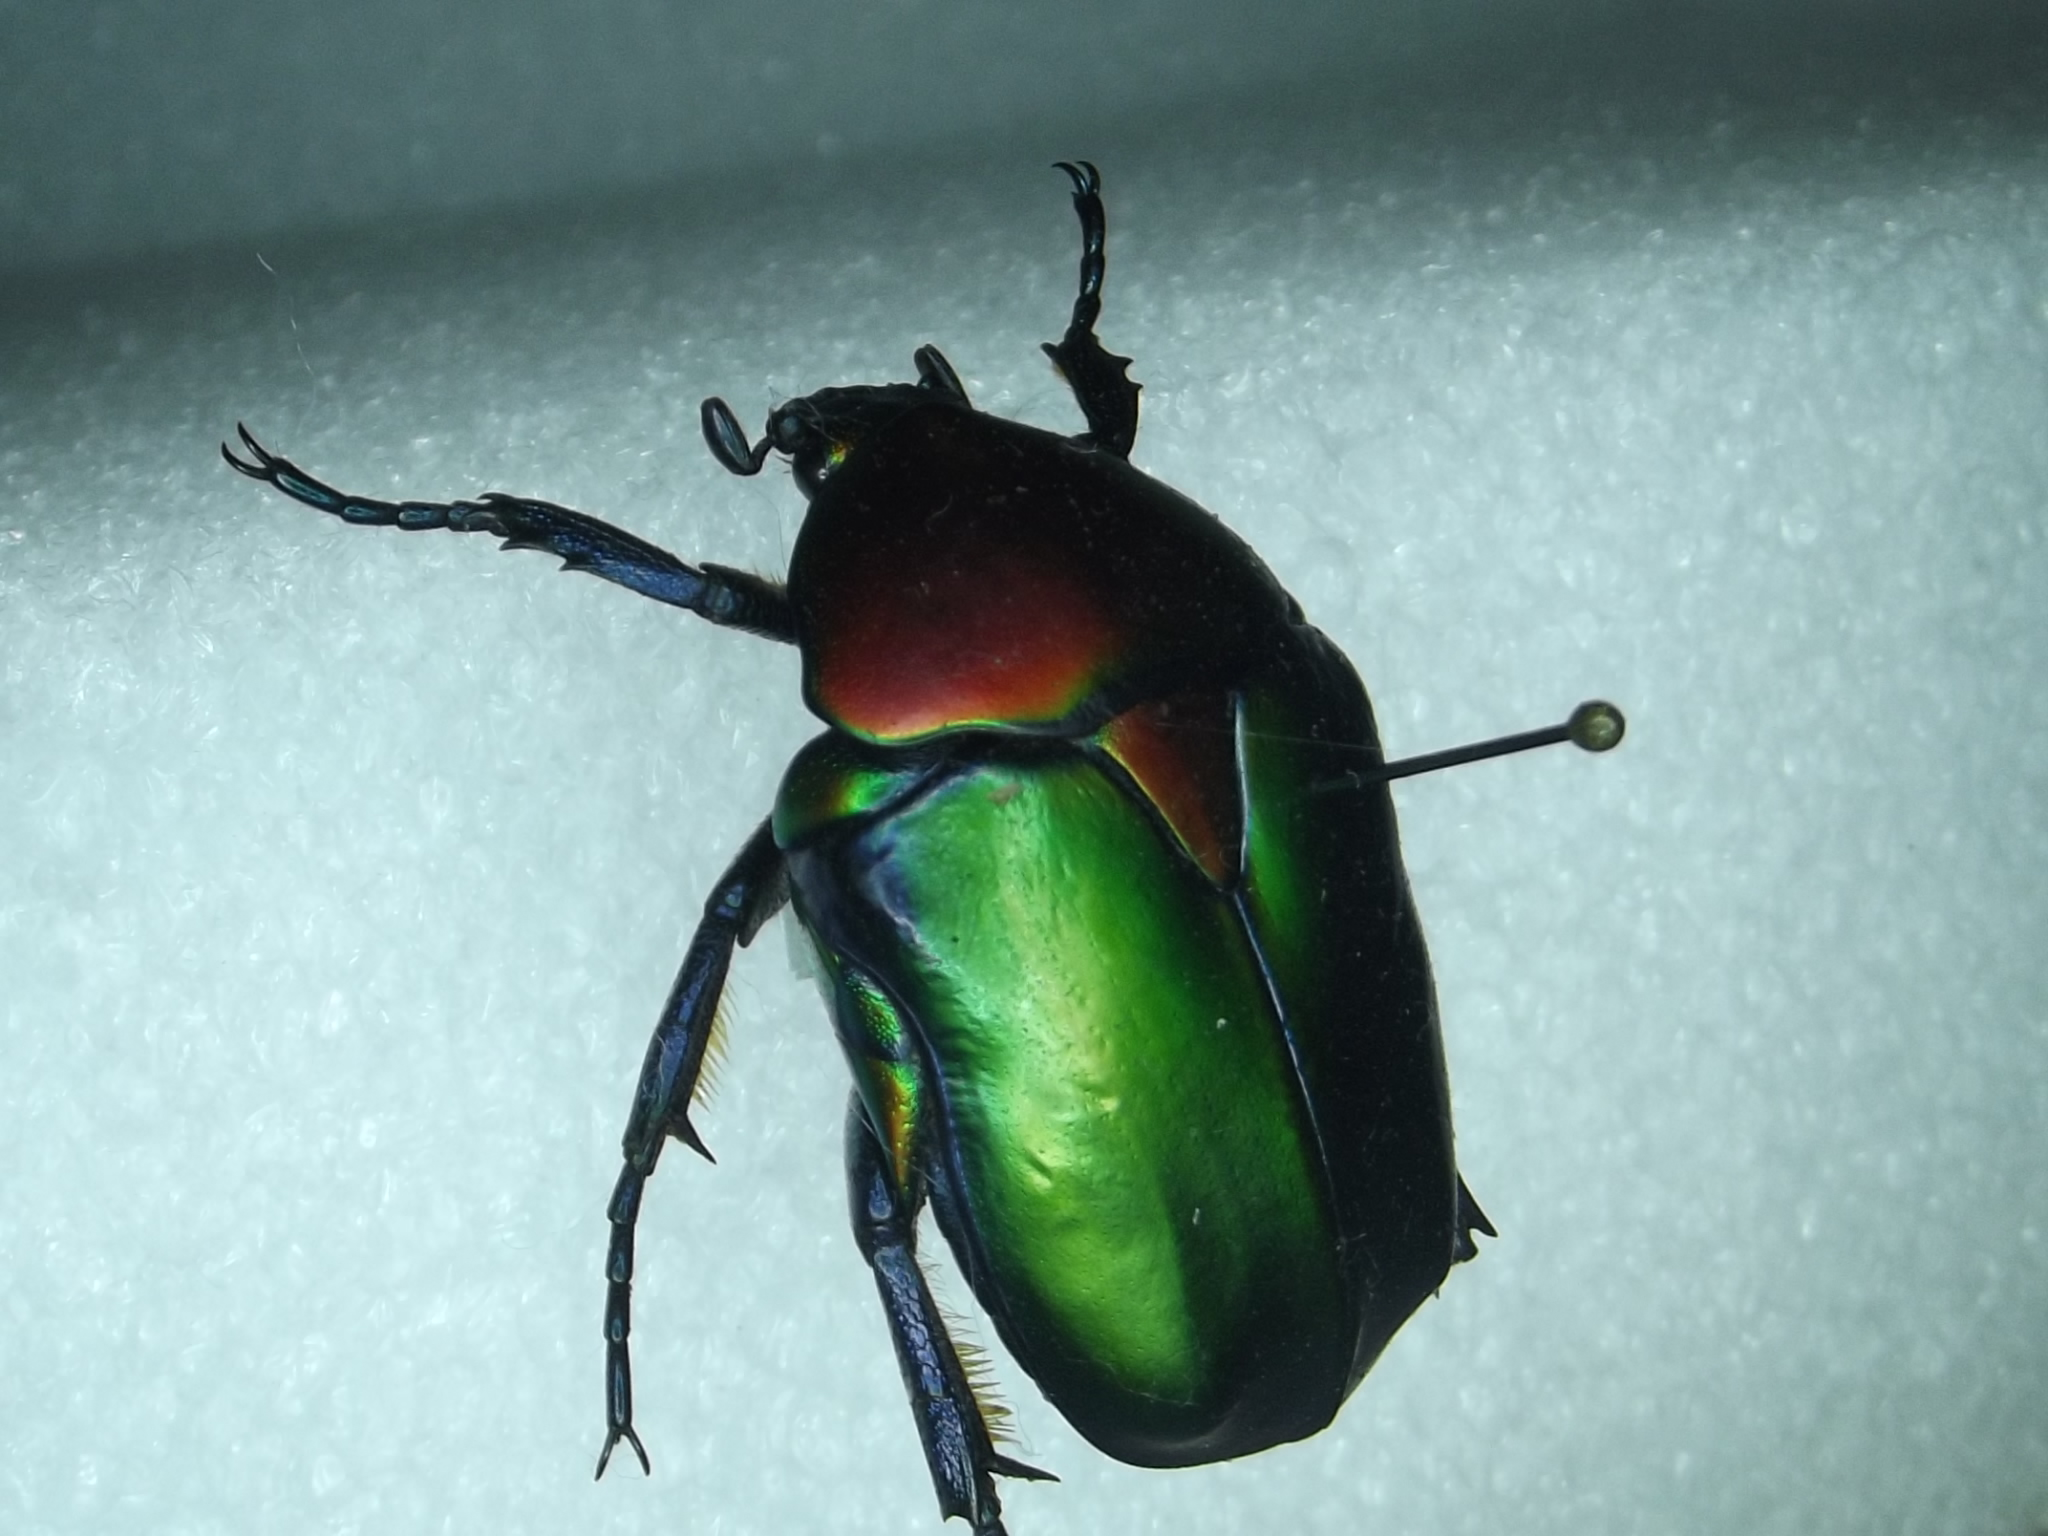Protaetia_speciosa_jousselini: (214, 150, 1513, 1534)
